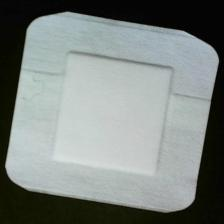Dressing: (4, 11, 221, 216)
F_Body: (22, 70, 49, 114)
